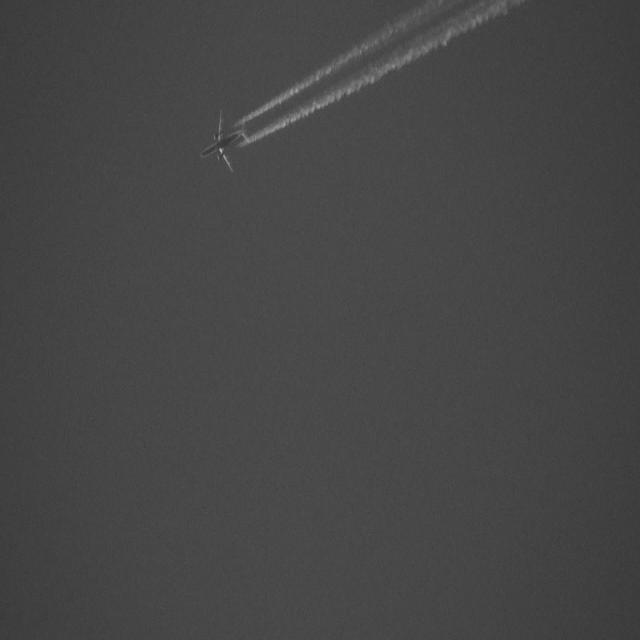aeroplane: (196, 104, 251, 176)
